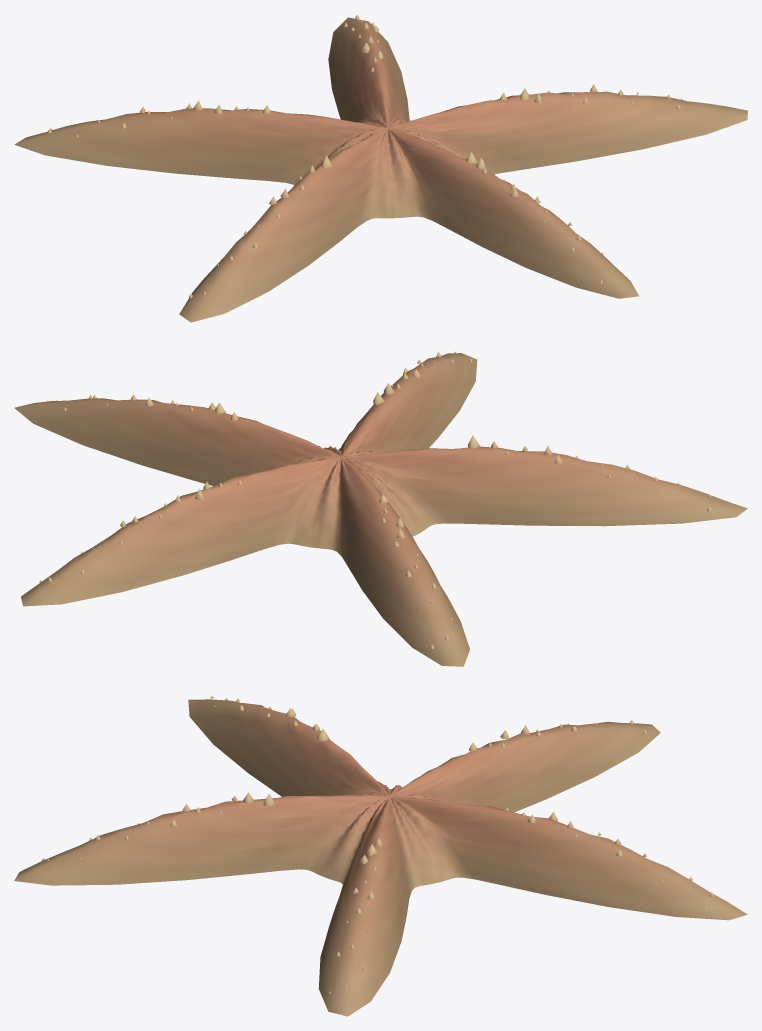
File: starfish.glb
The picture shows the model from 3 angles, top to bottom: view 1: azimuth 30°, elevation 25°; view 2: azimuth 150°, elevation 25°; view 3: azimuth 270°, elevation 25°; orthographic projection. The views are drawn at different scales.
Visible parts, largest first — view 1: starfish_common; view 2: starfish_common; view 3: starfish_common.
Boxes of the visible parts, x1,y1,x2,y2 form: starfish_common: (14,14,747,322); starfish_common: (14,351,747,666); starfish_common: (14,695,747,1016).
Bounding box in the file's own units: 2.88 × 0.3125 × 2.81.
